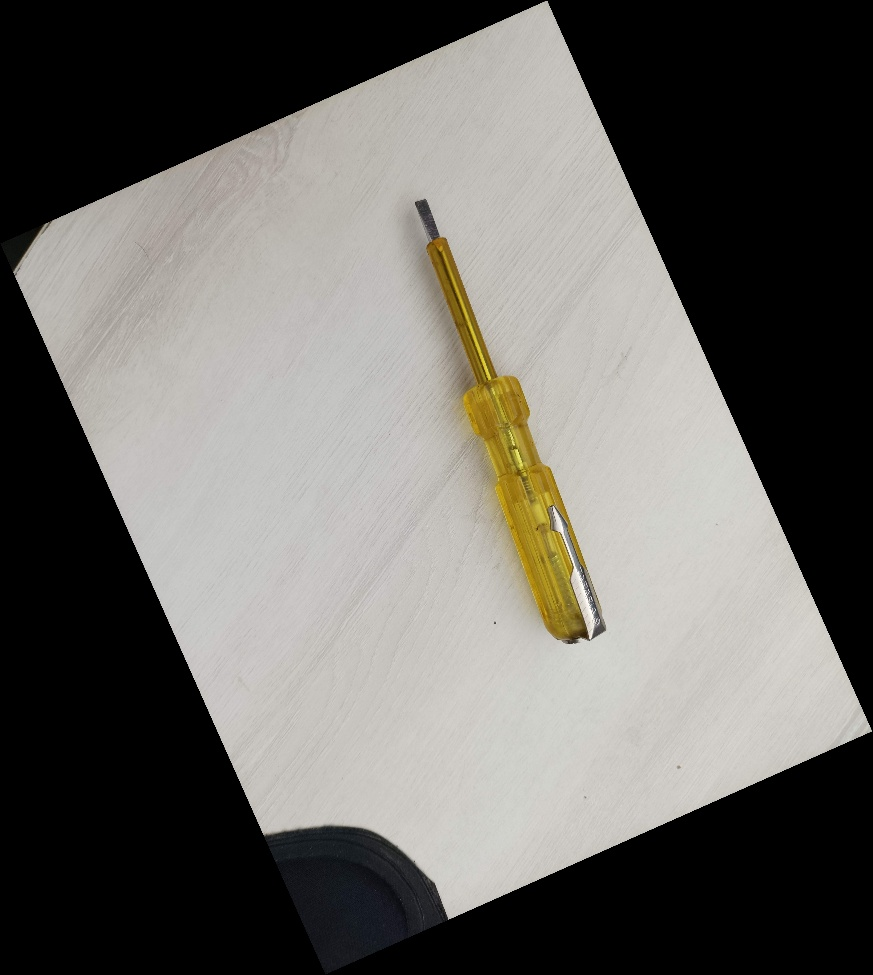screwdriver: (410, 188, 608, 644)
